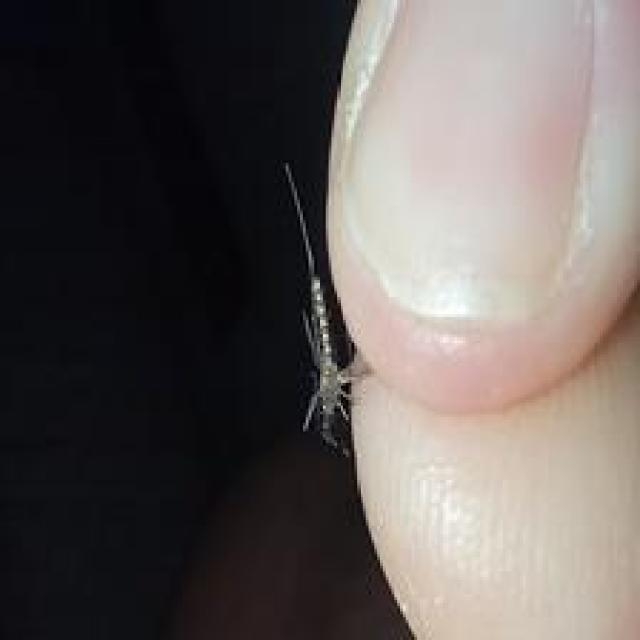Culex: (280, 162, 366, 458)
